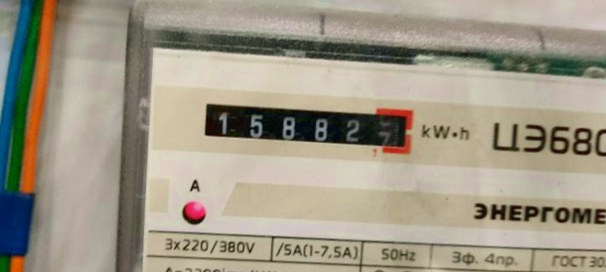1: (216, 106, 231, 136)
2: (343, 116, 361, 143)
5: (246, 110, 266, 141)
7: (376, 127, 390, 145)
8: (279, 112, 296, 141), (312, 114, 329, 143)
screen: (191, 85, 421, 162)
